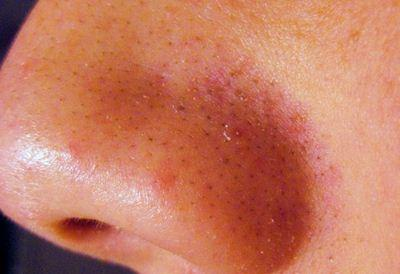Acne: (42, 39, 347, 274)
